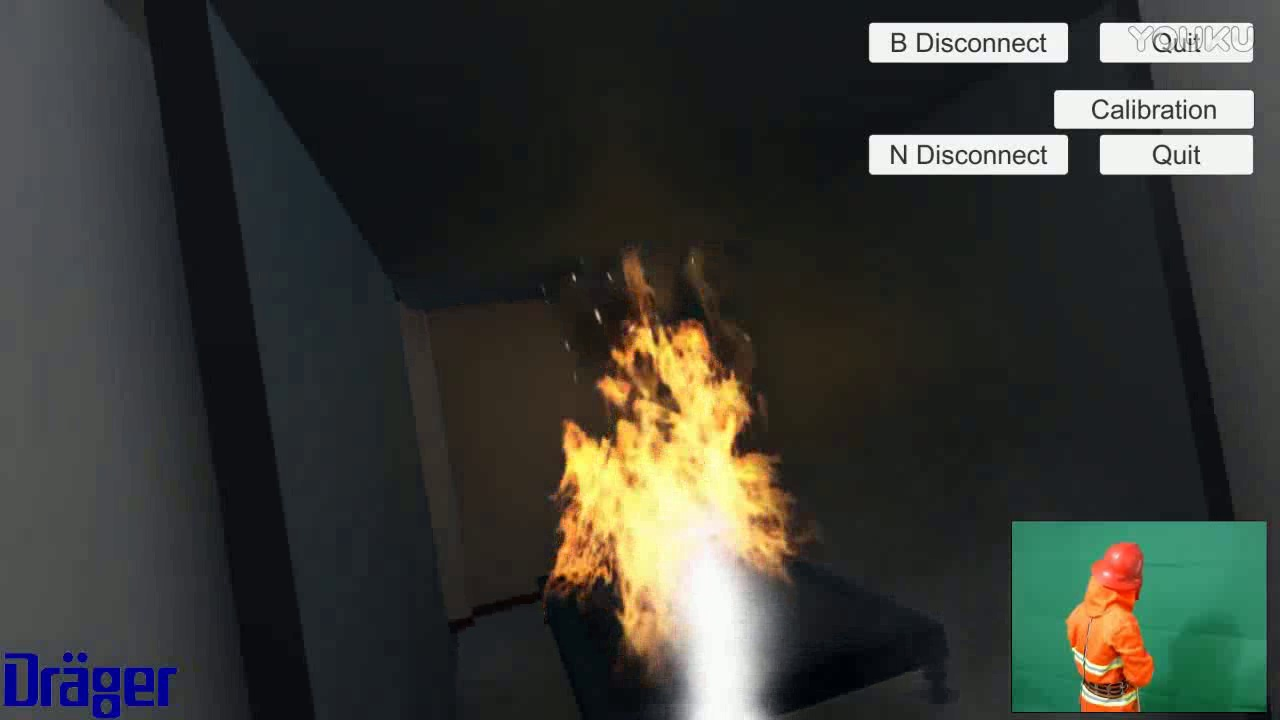fire: (535, 253, 798, 681)
